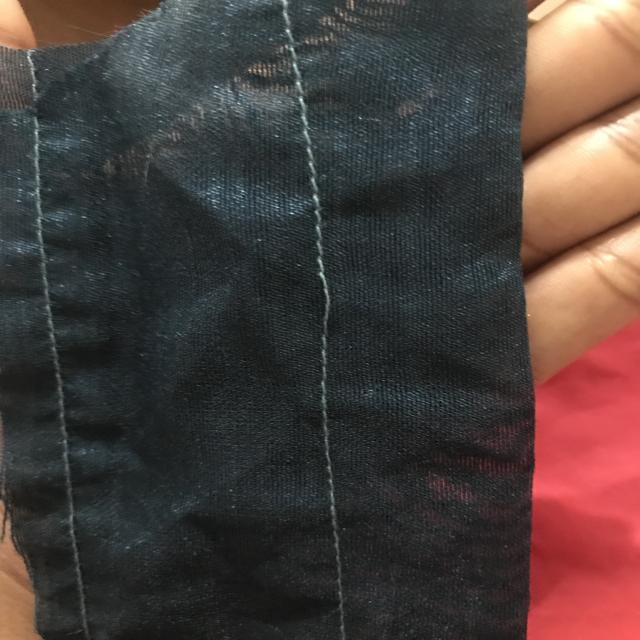good: (282, 72, 336, 202), (310, 395, 358, 538)
skip: (290, 255, 356, 340)
